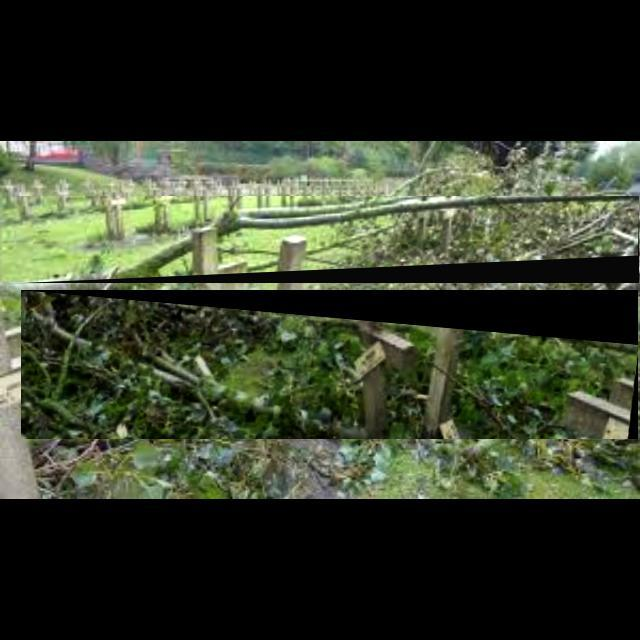fallen_tree: (21, 290, 639, 440), (2, 196, 640, 284)
